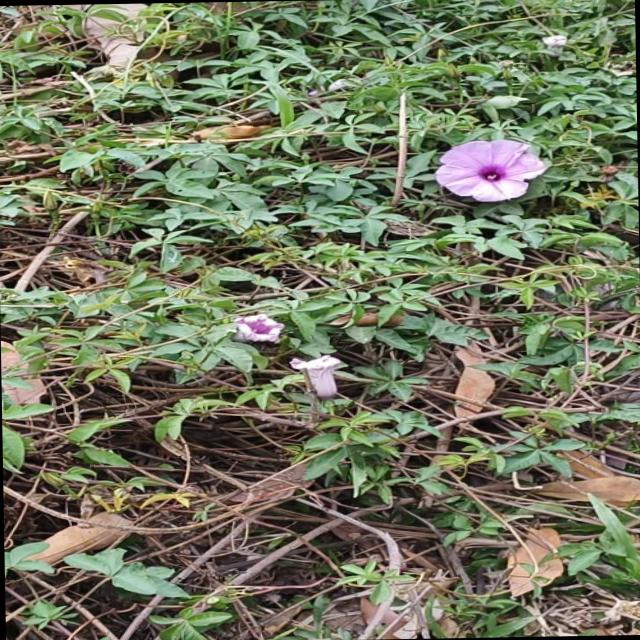ipomoea: (429, 137, 554, 206), (286, 352, 352, 402), (230, 310, 290, 346)
